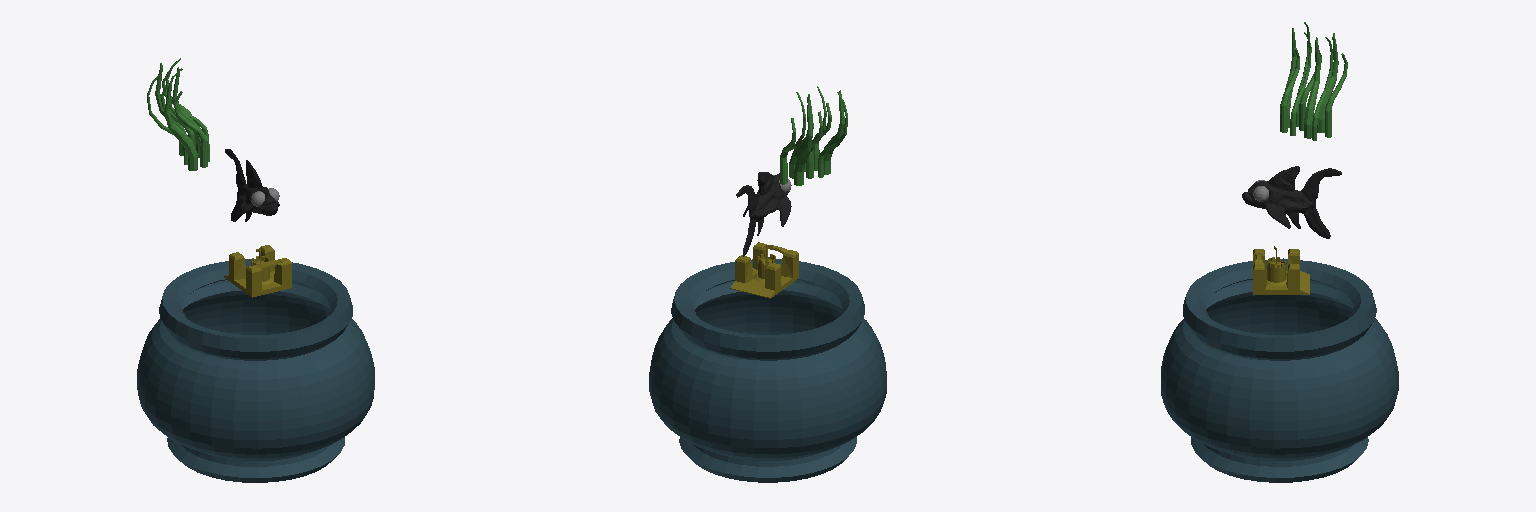
Rendered from FishAssets1.obj.
The picture shows the model from 3 angles: view 1: azimuth 30°, elevation 25°; view 2: azimuth 150°, elevation 25°; view 3: azimuth 270°, elevation 25°; orthographic projection.
Parts seen in each view (by area): view 1: FishBowl, SandCastle, FishRetopo4_finish, Sea_vines Sea_vines2 Sea_vines1, Sea_vines pCylinder8 pCylinder7 pCylinder6, Sea_vines pCylinder10 pCylinder9 pCylinder5; view 2: FishBowl, SandCastle, FishRetopo4_finish, Sea_vines Sea_vines2 Sea_vines1, Sea_vines pCylinder8 pCylinder7 pCylinder6, Sea_vines pCylinder10 pCylinder9 pCylinder5; view 3: FishBowl, FishRetopo4_finish, SandCastle, Sea_vines Sea_vines2 Sea_vines1, Sea_vines pCylinder8 pCylinder7 pCylinder6, Sea_vines pCylinder10 pCylinder9 pCylinder5.
Boxes of the visible parts, x1,y1,x2,y2 form: FishBowl: [137, 259, 374, 482]; SandCastle: [224, 245, 291, 297]; FishRetopo4_finish: [225, 149, 279, 221]; Sea_vines Sea_vines2 Sea_vines1: [155, 63, 200, 170]; Sea_vines pCylinder8 pCylinder7 pCylinder6: [160, 71, 207, 167]; Sea_vines pCylinder10 pCylinder9 pCylinder5: [147, 58, 209, 164]; FishBowl: [649, 259, 886, 482]; SandCastle: [730, 242, 798, 298]; FishRetopo4_finish: [736, 172, 791, 256]; Sea_vines Sea_vines2 Sea_vines1: [789, 90, 844, 185]; Sea_vines pCylinder8 pCylinder7 pCylinder6: [780, 103, 831, 184]; Sea_vines pCylinder10 pCylinder9 pCylinder5: [788, 86, 847, 177]; FishBowl: [1161, 259, 1398, 482]; FishRetopo4_finish: [1242, 166, 1341, 238]; SandCastle: [1253, 246, 1309, 294]; Sea_vines Sea_vines2 Sea_vines1: [1285, 28, 1338, 138]; Sea_vines pCylinder8 pCylinder7 pCylinder6: [1280, 48, 1347, 137]; Sea_vines pCylinder10 pCylinder9 pCylinder5: [1290, 22, 1332, 140].
Size of the model in its own units: 31.46 by 56.32 by 31.42.